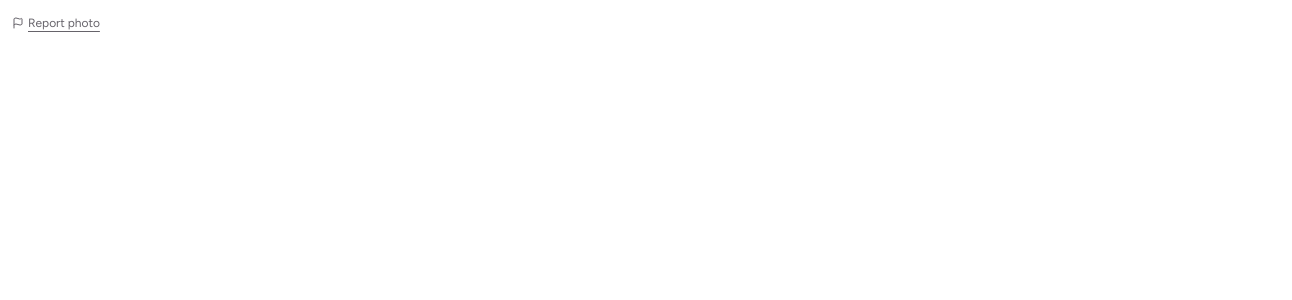
Test: reports a photo with a reason, and asks signed-out visitors to sign in
Click the button "Report photo": point(56, 23) x1=12 y1=15 x2=100 y2=31
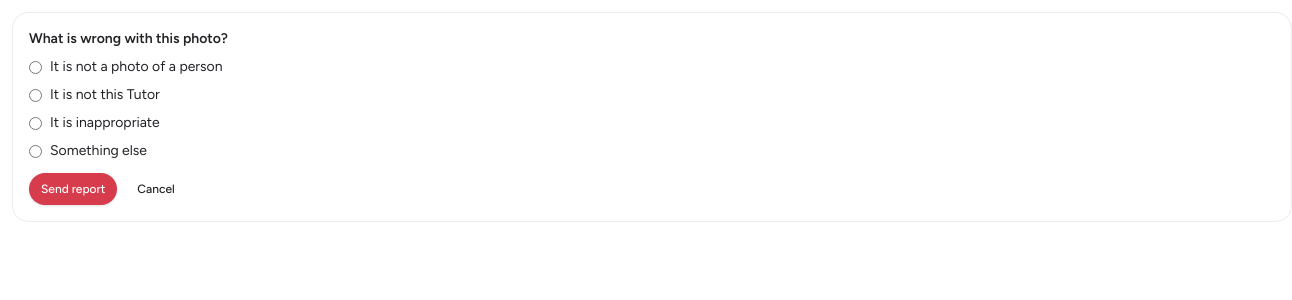
Click the button "Send report": point(73, 189) x1=29 y1=173 x2=117 y2=205
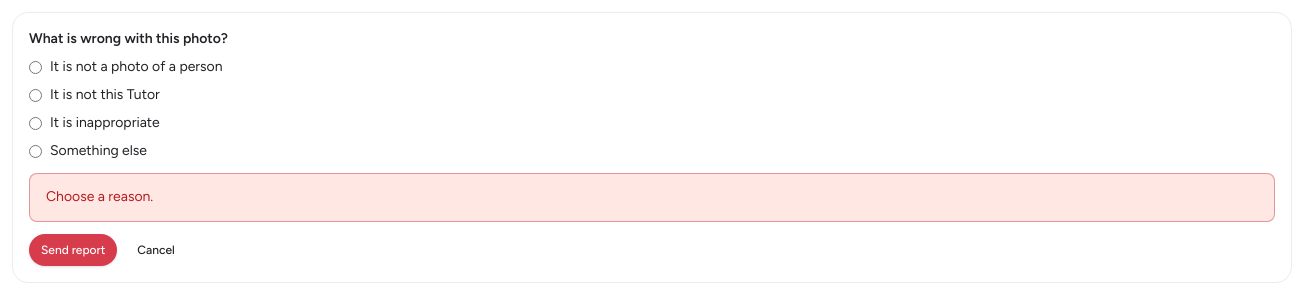
Now the text "Choose a reason." is shown, box x1=29 y1=173 x2=1275 y2=222
Click the radio button labelled "It is not this Tutor": point(36, 95) x1=29 y1=88 x2=42 y2=102
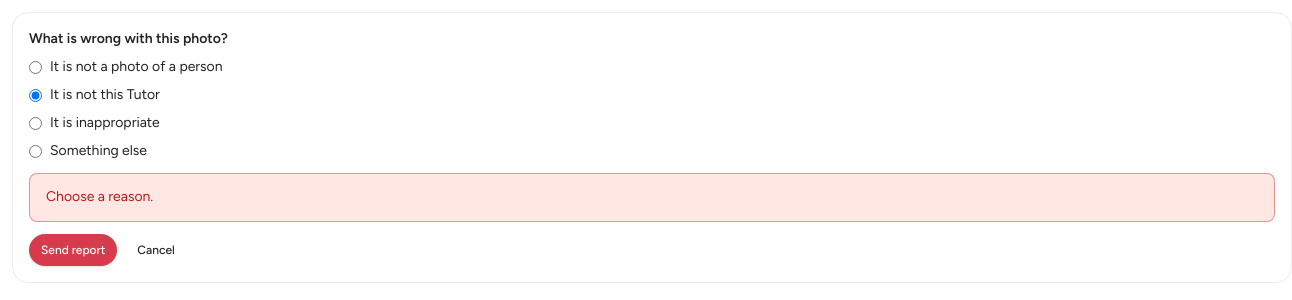
Click the button "Send report": point(73, 250) x1=29 y1=234 x2=117 y2=266
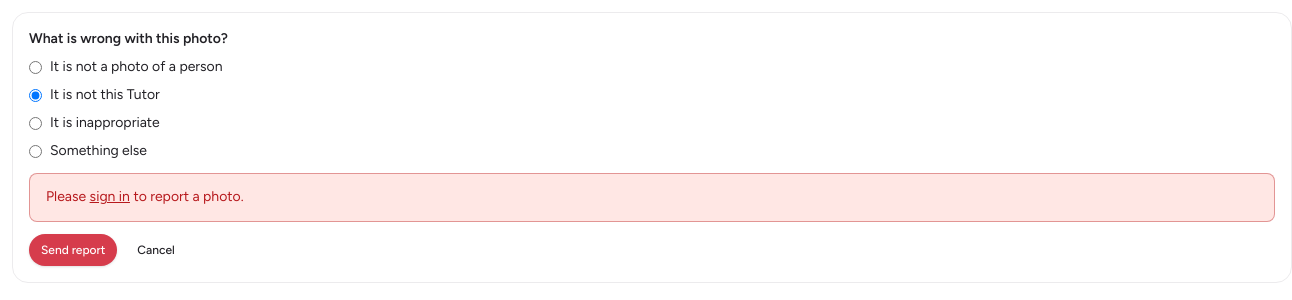
Click the button "Send report": point(73, 250) x1=29 y1=234 x2=117 y2=266
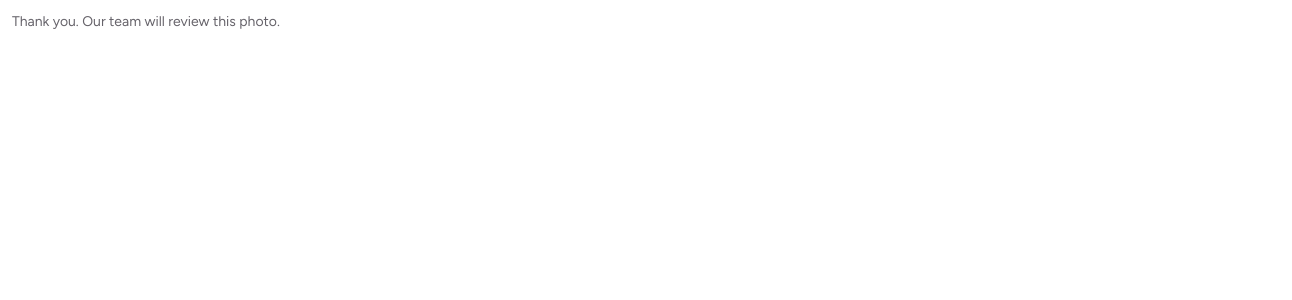
Now the text "Thank you. Our team will review this photo." is shown, box x1=12 y1=13 x2=280 y2=30
